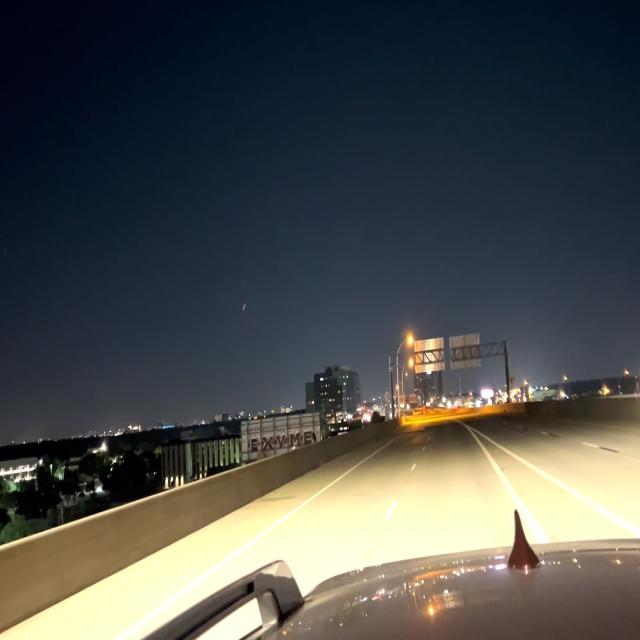back-of-sign: (451, 331, 485, 373), (414, 337, 447, 377)
